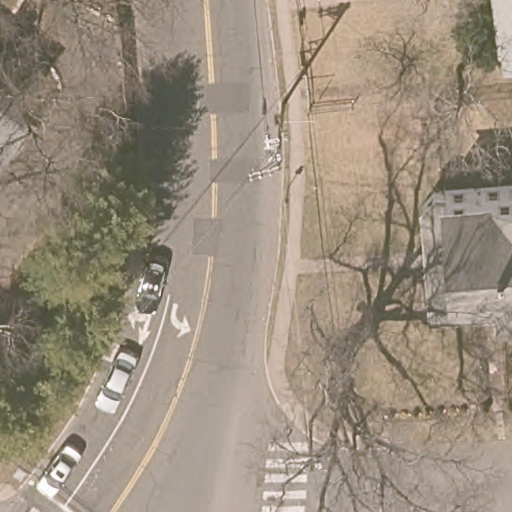DT: (246, 104, 289, 182)
